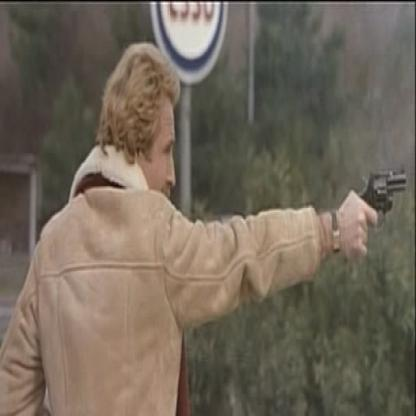gun: (365, 152, 409, 230)
